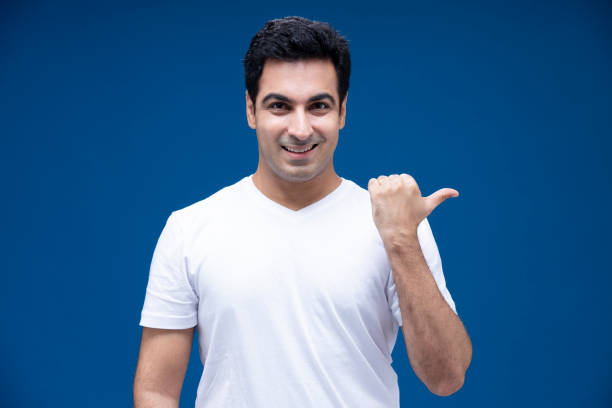Male: (136, 24, 467, 403)
